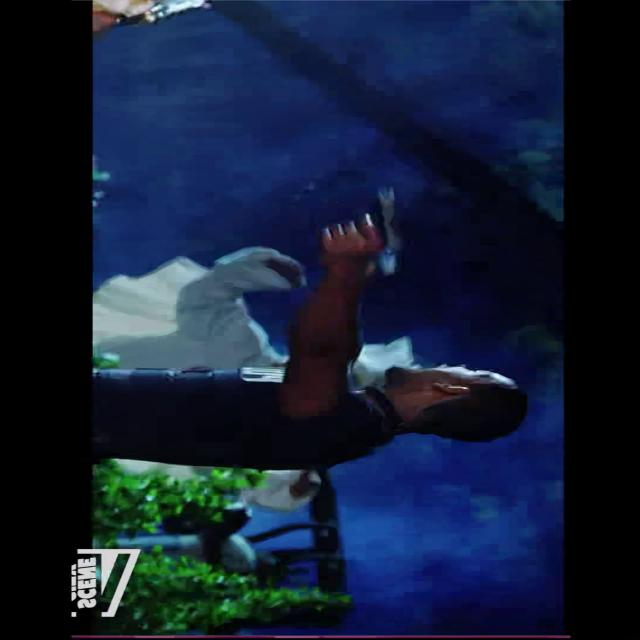weapons: (296, 181, 426, 287)
